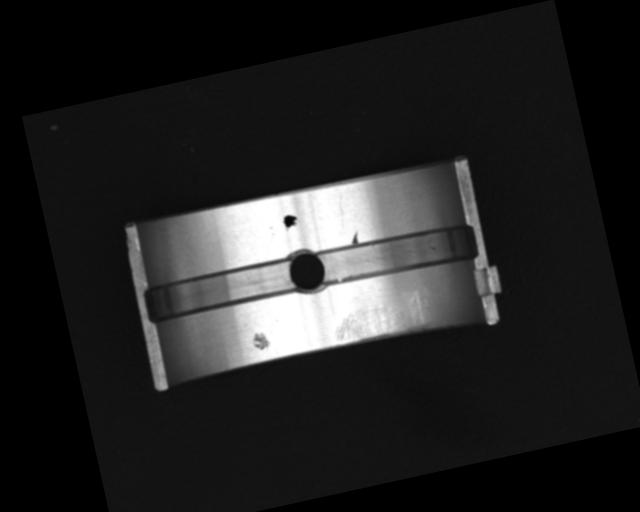blot: (281, 212, 300, 231)
bruise: (249, 328, 272, 352), (347, 231, 360, 245)
gap: (315, 218, 478, 293), (139, 253, 302, 326)
hole: (284, 245, 331, 299)
nick: (334, 193, 349, 229)
scratch: (329, 291, 436, 348)
